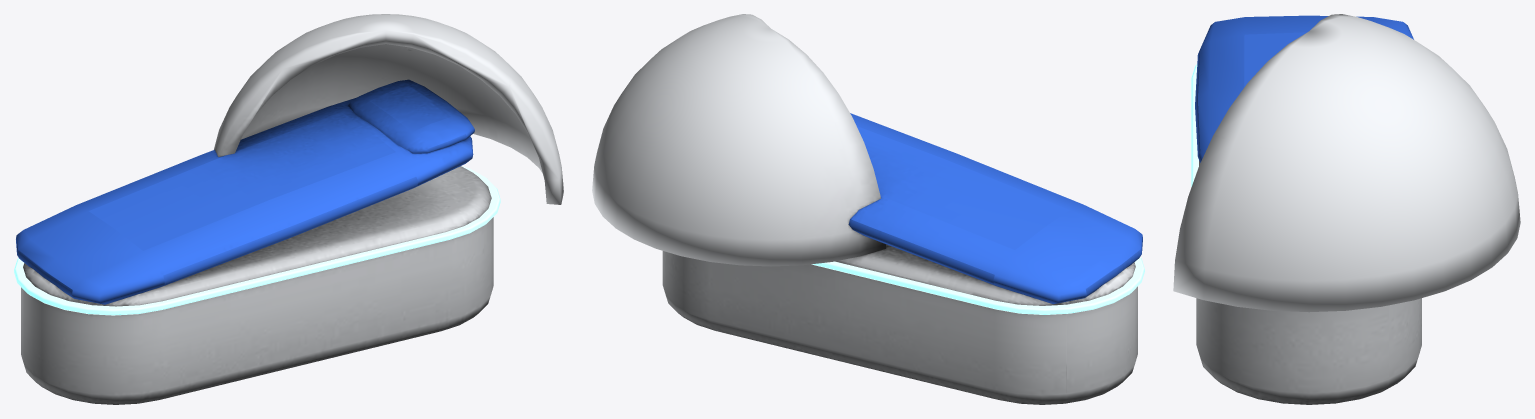
Rendered from nap_pod.glb.
3 views of the same model, side by side, from view 1: azimuth 30°, elevation 25°; view 2: azimuth 150°, elevation 25°; view 3: azimuth 270°, elevation 25° (orthographic). The views are drawn at different scales.
Parts seen in each view (by area): view 1: nap_pod; view 2: nap_pod; view 3: nap_pod.
Part boxes in pixels (left/top/right/bottom): nap_pod: left=14, top=14, right=563, bottom=404; nap_pod: left=592, top=14, right=1144, bottom=404; nap_pod: left=1173, top=14, right=1520, bottom=404.
Bounding box in the file's own units: 2 × 1.02 × 0.9857.
Materials: 4 (3 with a texture image).
